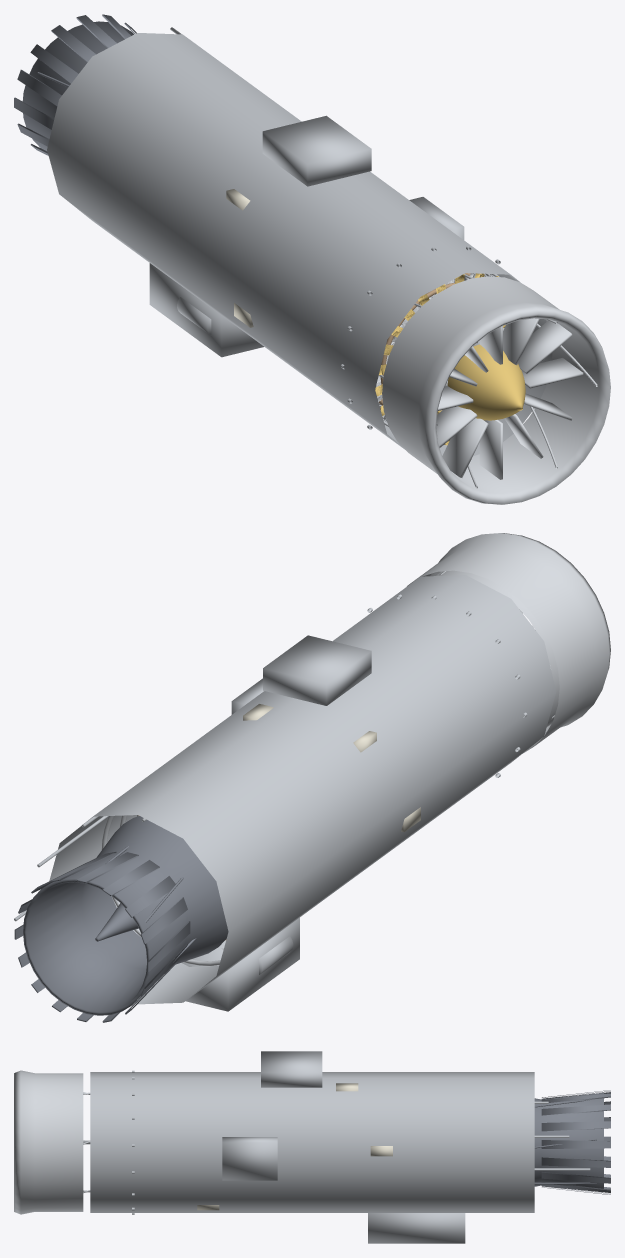
The model's file is Turbojet.glb.
3 views of the same model, one above another, from view 1: azimuth 30°, elevation 25°; view 2: azimuth 150°, elevation 25°; view 3: azimuth 270°, elevation 25° (orthographic). The views are drawn at different scales.
Visible parts, largest first — view 1: Sensor_Cable_Harness, Intake_Mounting_Frame, Air_Guide_Vanes, Exhaust_Nozzle, FADEC_ECU_Module_Top, Intake_Cone, Accessory_Gearbox_Housing, FADEC_ECU_Module_Side, Fan_Blade_Assembly; view 2: Sensor_Cable_Harness, Exhaust_Nozzle, Intake_Mounting_Frame, FADEC_ECU_Module_Top, Accessory_Gearbox_Housing; view 3: Sensor_Cable_Harness, Intake_Mounting_Frame, Exhaust_Nozzle, Accessory_Gearbox_Housing, FADEC_ECU_Module_Side, FADEC_ECU_Module_Top, Streamline_Exhaust.
Part boxes in pixels (<box>): Sensor_Cable_Harness: <box>47,33,552,456</box>; Intake_Mounting_Frame: <box>382,276,610,504</box>; Air_Guide_Vanes: <box>436,318,583,479</box>; Exhaust_Nozzle: <box>14,14,136,155</box>; FADEC_ECU_Module_Top: <box>262,115,371,186</box>; Intake_Cone: <box>447,344,525,420</box>; Accessory_Gearbox_Housing: <box>149,263,263,357</box>; FADEC_ECU_Module_Side: <box>409,197,464,239</box>; Fan_Blade_Assembly: <box>375,273,505,445</box>; Sensor_Cable_Harness: <box>49,575,556,1004</box>; Exhaust_Nozzle: <box>14,816,228,1022</box>; Intake_Mounting_Frame: <box>407,533,610,753</box>; FADEC_ECU_Module_Top: <box>263,635,371,705</box>; Accessory_Gearbox_Housing: <box>181,917,299,1011</box>; Sensor_Cable_Harness: <box>90,1072,534,1212</box>; Intake_Mounting_Frame: <box>14,1070,83,1214</box>; Exhaust_Nozzle: <box>534,1090,610,1194</box>; Accessory_Gearbox_Housing: <box>368,1213,465,1243</box>; FADEC_ECU_Module_Side: <box>222,1137,277,1180</box>; FADEC_ECU_Module_Top: <box>261,1051,322,1087</box>; Streamline_Exhaust: <box>534,1099,596,1184</box>.
Bounding box in the file's own units: 1.06 × 1.34 × 4.3.
